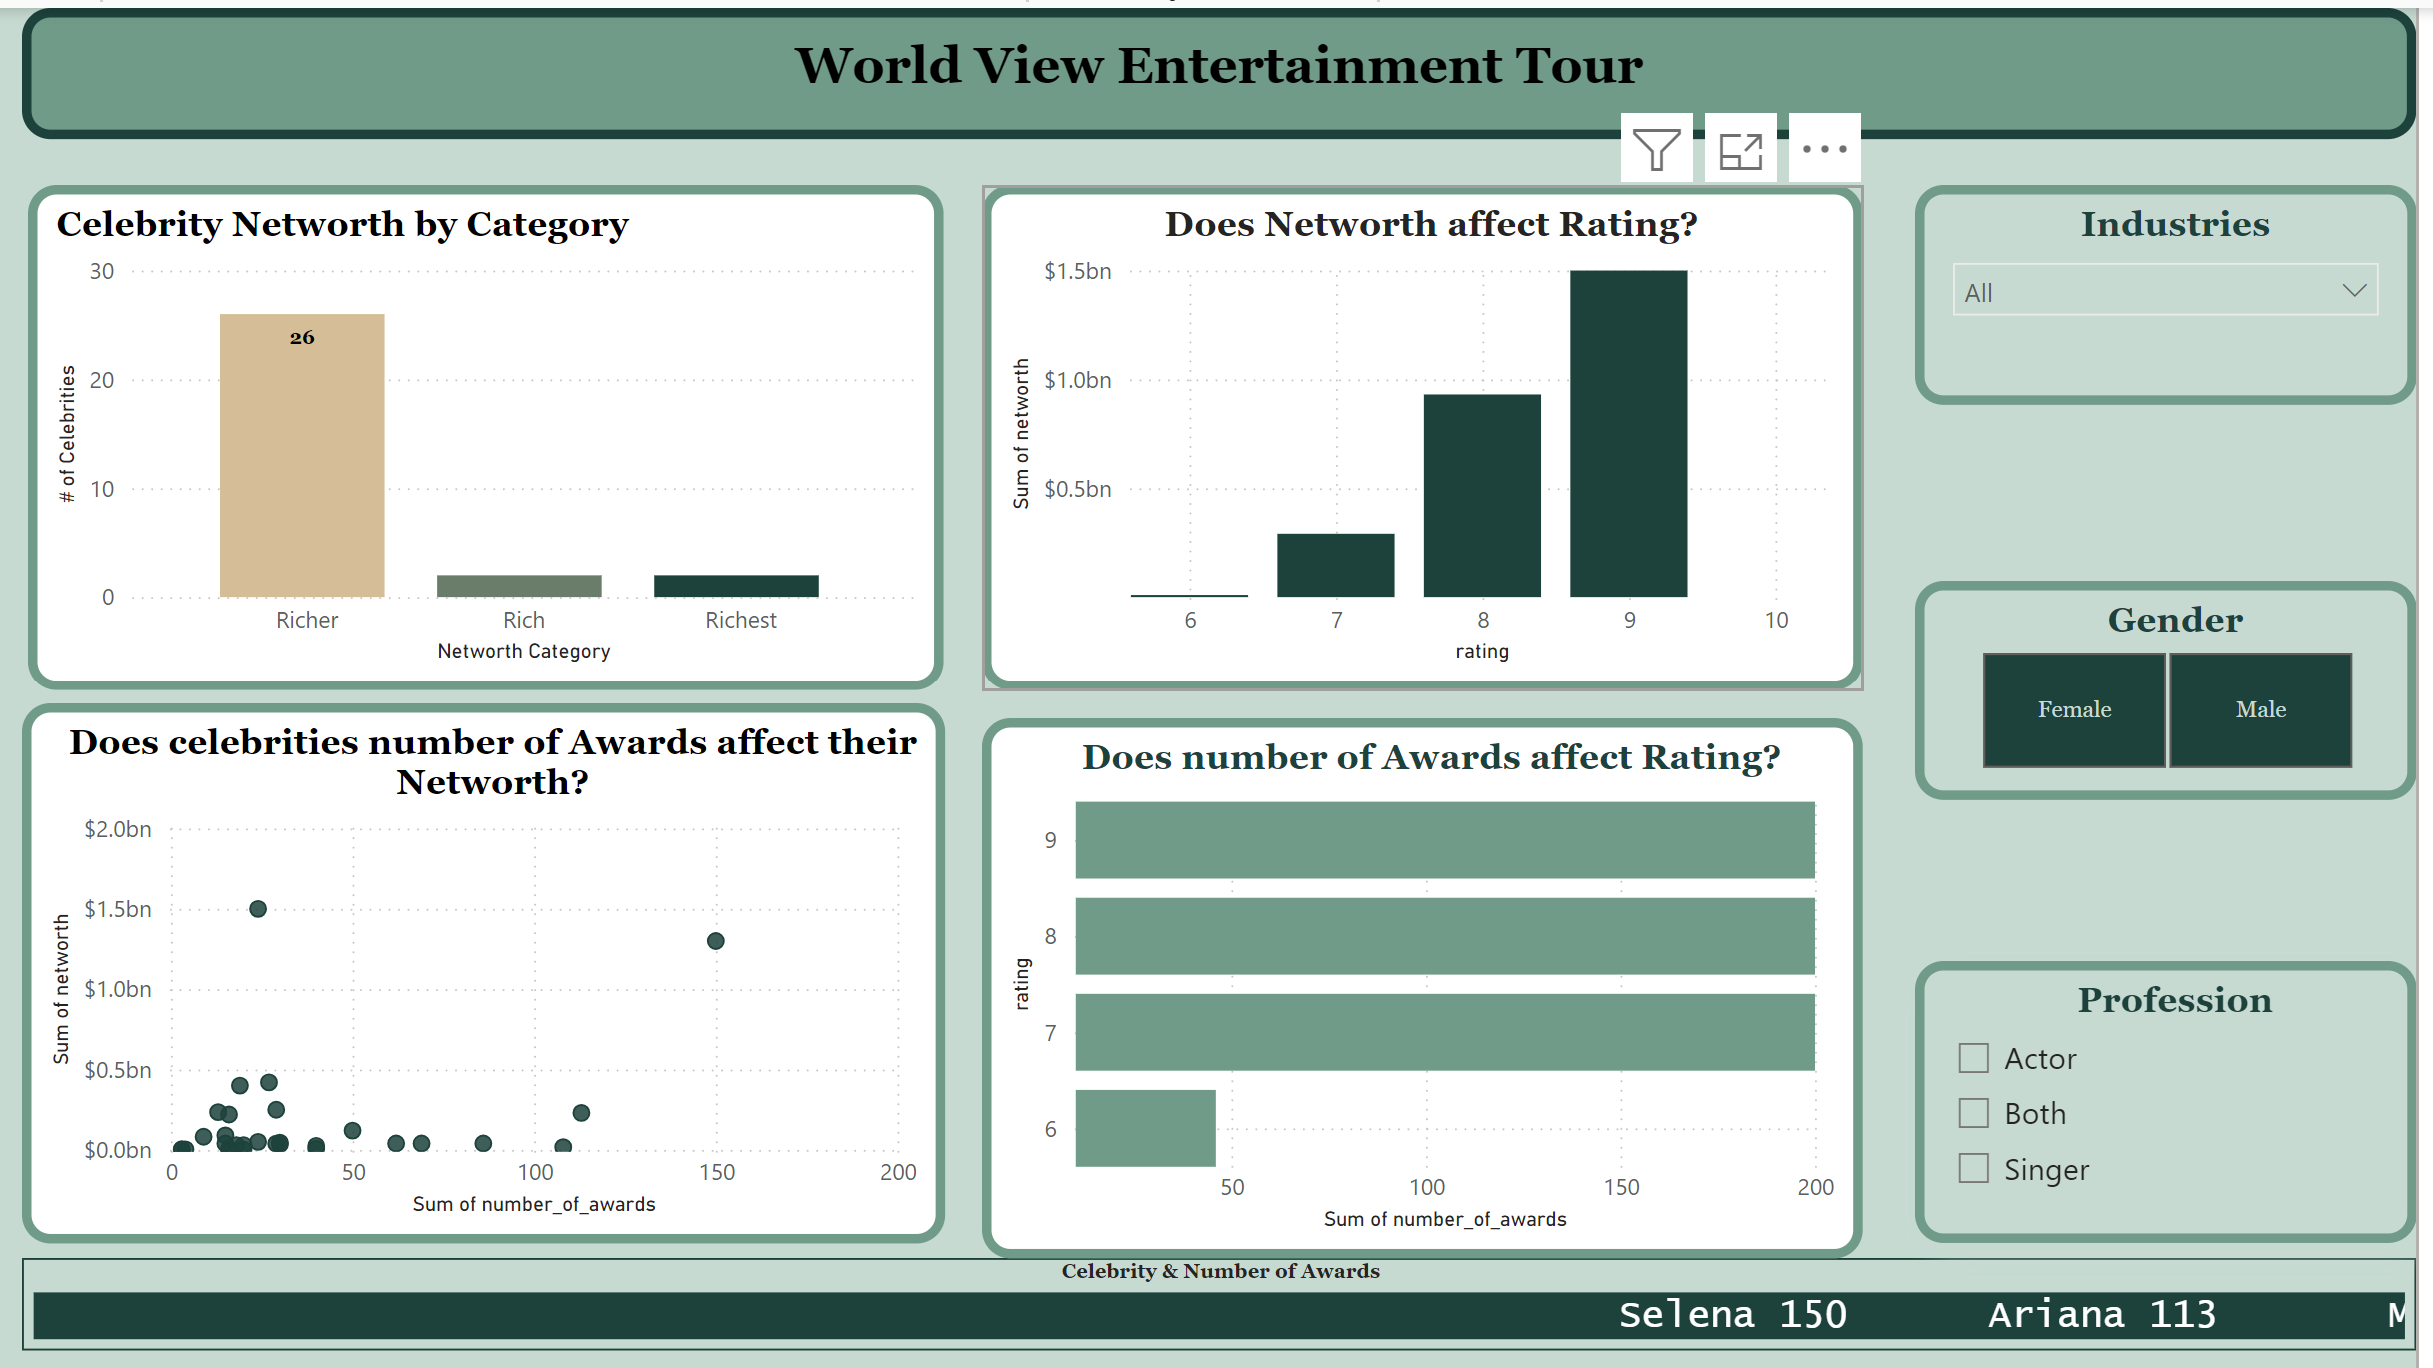

What the dashboard file says about the page in this screenshot:
{"tool":"powerbi","page":{"name":"Relationship","canvas":[1280,720],"ordinal":1},"visuals":[{"type":"textbox","box":[20.3,0,1259.7,69.1],"z":0},{"type":"slicer","title":"Industries","fields":{"Values":["Industry.industry_name"]},"box":[1015.9,93.5,264.1,115.8],"z":1000},{"type":"slicer","title":"Gender","fields":{"Values":["Celebrity.gender"]},"box":[1015.9,300.7,264.1,115.8],"z":2000},{"type":"ScrollingTextVisual1448795304508","title":"Celebrity & Number of Awards","fields":{"Category":["Celebrity.first_name"],"Measure Absolute":["Sum(Award.number_of_awards)"]},"box":[20.3,658.3,1259.7,48.8],"z":3000},{"type":"clusteredColumnChart","title":"Celebrity Networth  by Category","fields":{"Category":["Award.Networth Category"],"Y":["CountNonNull(Award.celebrity_id)"]},"box":[24.4,93.5,481.5,266.2],"z":4000},{"type":"slicer","title":"Profession","fields":{"Values":["Celebrity.profession"]},"box":[1015.9,501.8,264.1,148.3],"z":5000},{"type":"clusteredColumnChart","title":"Does Networth affect Rating?","fields":{"Category":["Award.rating"],"Y":["Sum(Award.networth)"]},"box":[526.2,93.5,463.2,266.2],"z":6000},{"type":"clusteredBarChart","title":"Does number of Awards affect Rating?","fields":{"Category":["Award.rating"],"Y":["Sum(Award.number_of_awards)"]},"box":[526.2,373.8,463.2,284.4],"z":7000},{"type":"scatterChart","title":"Does celebrities  number of Awards affect their Networth?","fields":{"Category":["Celebrity.Full Name"],"X":["Sum(Award.number_of_awards)"],"Y":["Sum(Award.networth)"]},"box":[20.3,365.7,485.6,284.4],"z":9000}]}

Visuals, with their boxes in screenshot pixels (x1, y1, x2, y2), scaled from the page's 1280x720 canvas onto the 2433x1368 screenshot:
textbox: crop(39, 0, 2432, 131)
"Industries" slicer: crop(1931, 178, 2432, 398)
"Gender" slicer: crop(1931, 571, 2432, 791)
"Celebrity & Number of Awards" ScrollingTextVisual1448795304508: crop(39, 1251, 2432, 1343)
"Celebrity Networth  by Category" clusteredColumnChart: crop(46, 178, 962, 683)
"Profession" slicer: crop(1931, 953, 2432, 1235)
"Does Networth affect Rating?" clusteredColumnChart: crop(1000, 178, 1881, 683)
"Does number of Awards affect Rating?" clusteredBarChart: crop(1000, 710, 1881, 1251)
"Does celebrities  number of Awards affect their Networth?" scatterChart: crop(39, 695, 962, 1235)
